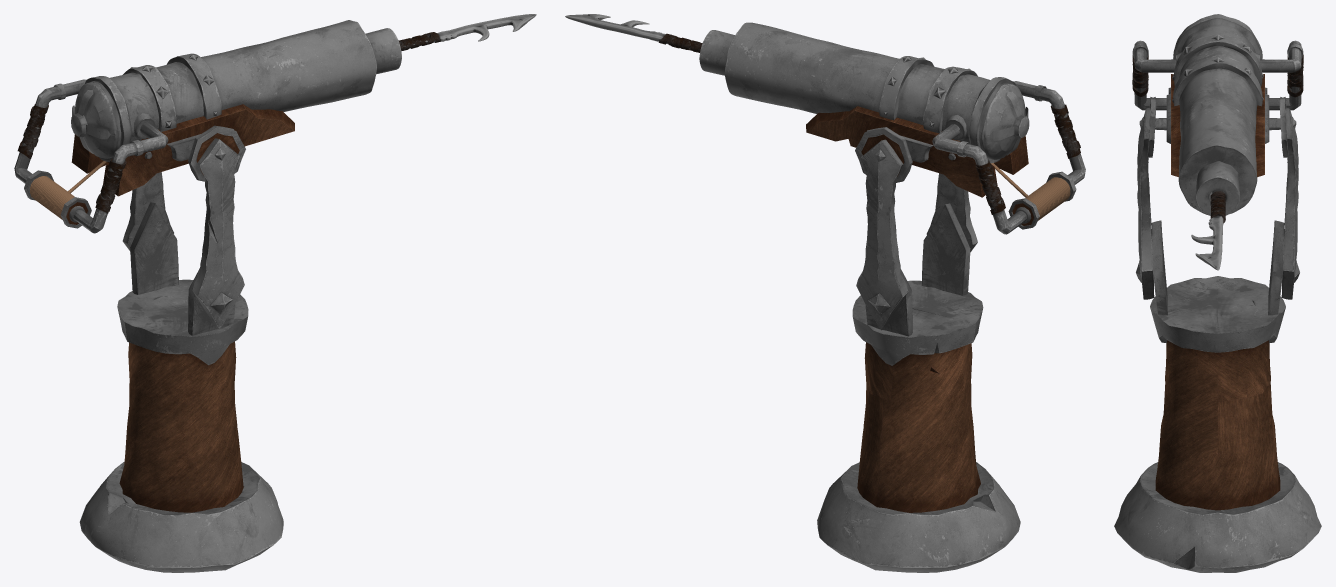
The model's file is source-harpoon.glb.
3 views of the same model, side by side, from view 1: azimuth 30°, elevation 25°; view 2: azimuth 150°, elevation 25°; view 3: azimuth 270°, elevation 25° (orthographic).
Visible parts, largest first — view 1: base, harpoon_base, arms, holder, handles, straps, harpoon, Plane, handle_misc; view 2: base, harpoon_base, arms, holder, handles, straps, harpoon, Plane, handle_misc; view 3: base, harpoon_base, arms, handles, holder, harpoon (×2), straps, spikes.
Boxes of the visible parts, x1,y1,x2,y2 form: base: (79, 279, 283, 572); harpoon_base: (71, 20, 401, 161); arms: (122, 125, 245, 335); holder: (71, 104, 294, 196); handles: (14, 79, 168, 233); straps: (17, 104, 126, 213); harpoon: (400, 14, 536, 49); Plane: (30, 176, 74, 219); handle_misc: (24, 170, 91, 228); base: (817, 280, 1020, 572); harpoon_base: (699, 22, 1029, 163); arms: (855, 127, 977, 336); holder: (806, 106, 1028, 197); handles: (932, 81, 1085, 234); straps: (975, 104, 1080, 214); harpoon: (565, 14, 690, 48); Plane: (1025, 177, 1070, 220); handle_misc: (1008, 171, 1076, 229); base: (1114, 276, 1321, 572); harpoon_base: (1173, 14, 1262, 215); arms: (1136, 97, 1299, 315); handles: (1132, 40, 1303, 110); holder: (1166, 74, 1269, 177); harpoon (×2): (1191, 189, 1225, 270); straps: (1132, 54, 1303, 97); spikes: (1172, 34, 1263, 102).
Bounding box in the file's own units: 17.14 × 16 × 6.2.
Materials: 5 (5 with a texture image).
